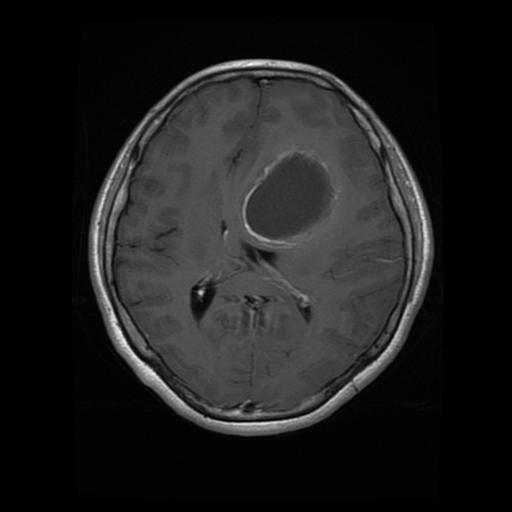Gliomia_tumour: (239, 144, 342, 245)
